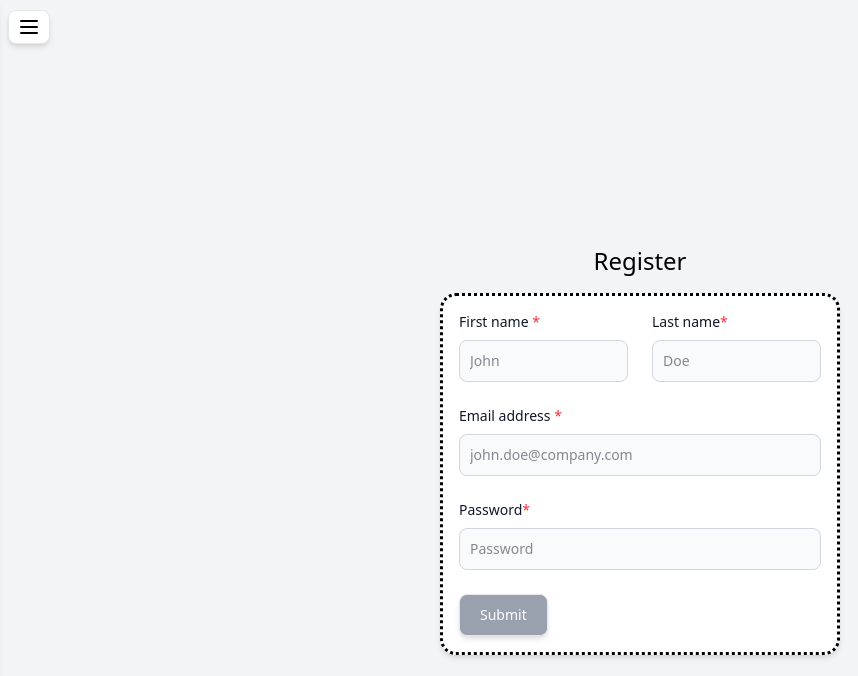
Test: Register › should succesfully register and redirect to log in
Expected: the text "Submit" is shown, [480,605,527,624]
Step 1. Type "Test" into the field with placeholder "John" → [544, 361], box [459,340,628,382]
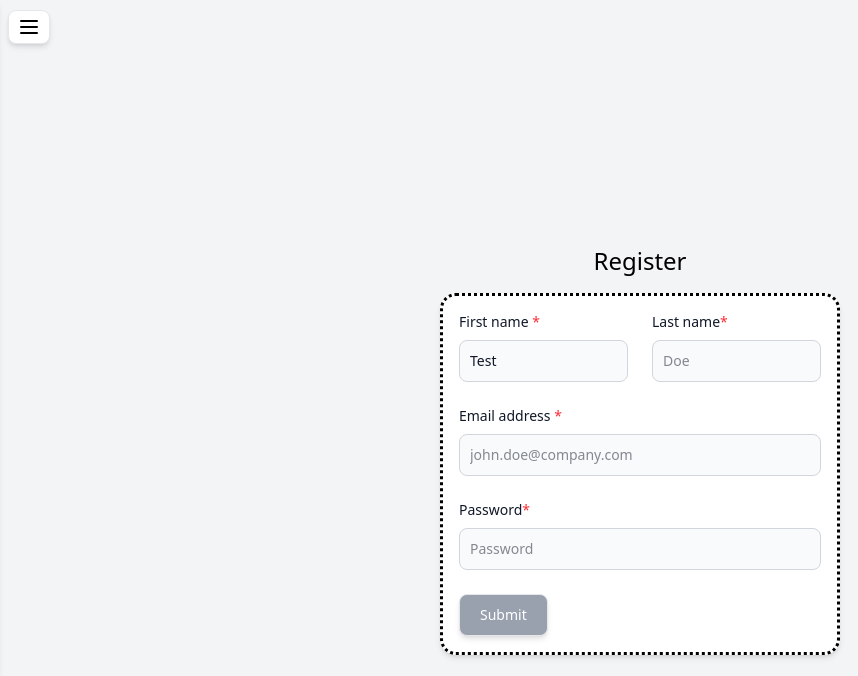
Step 2. Type "Testov" into the field with placeholder "Doe" → [736, 361], box [652,340,821,382]
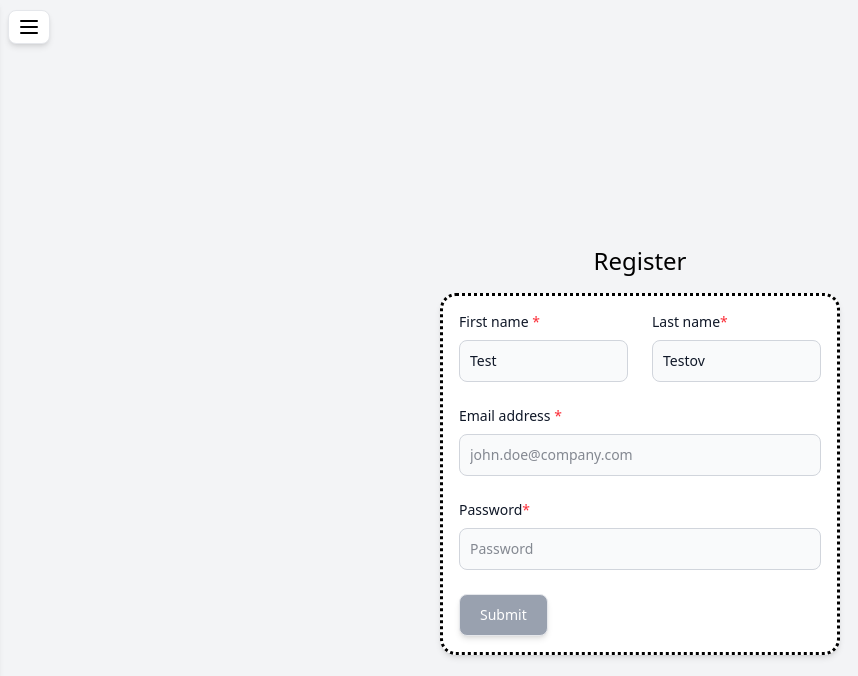
Step 3. Type "admin@example.com" into the field with placeholder "john.doe@company.com" → [640, 455], box [459,434,821,476]
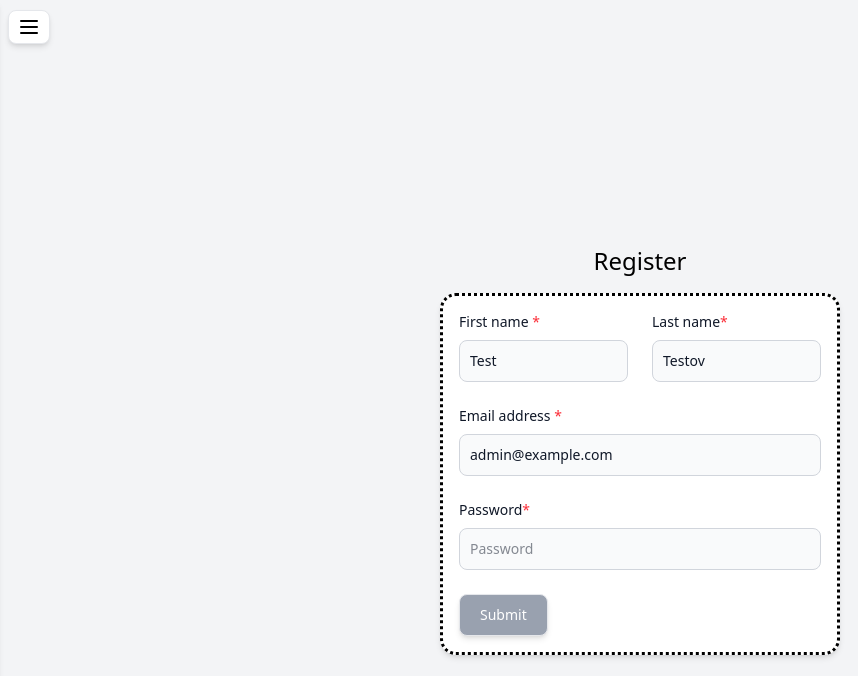
Step 4. Type "password123" into the password field with placeholder "Password" → [640, 549], box [459,528,821,570]
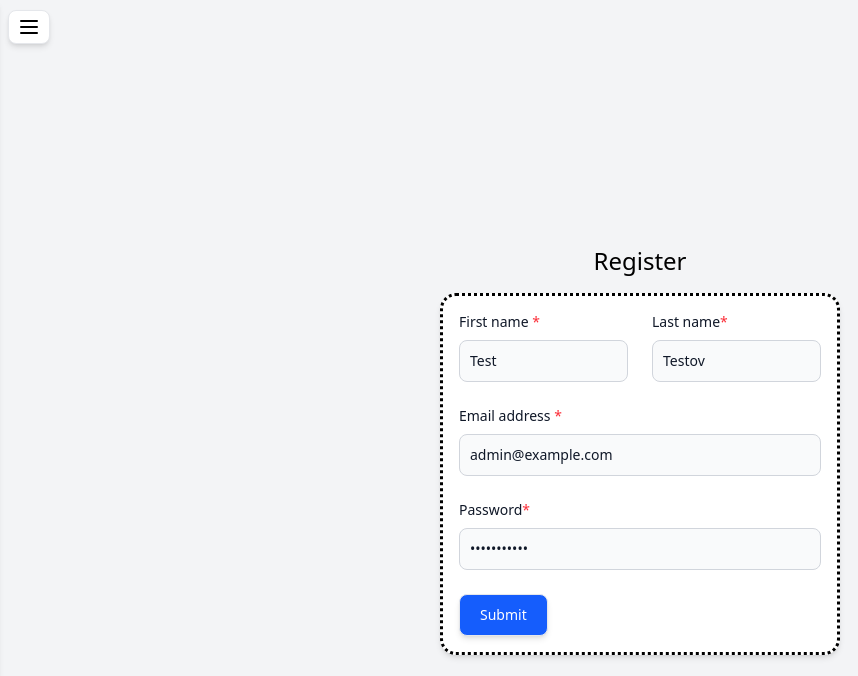
Step 5. Click the button "Submit" → [503, 615], box [459,594,548,636]
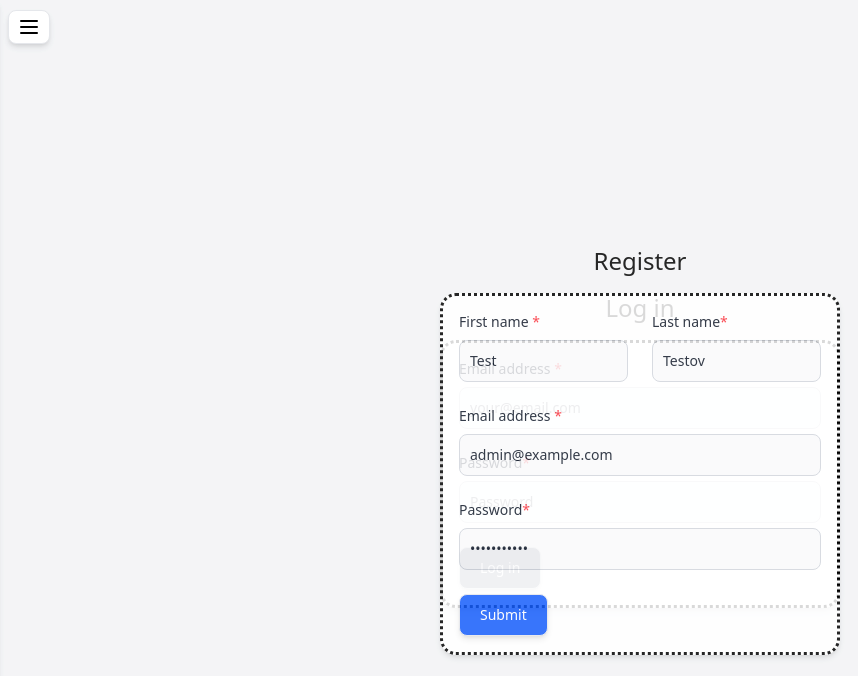
Now the button "Submit" is gone
